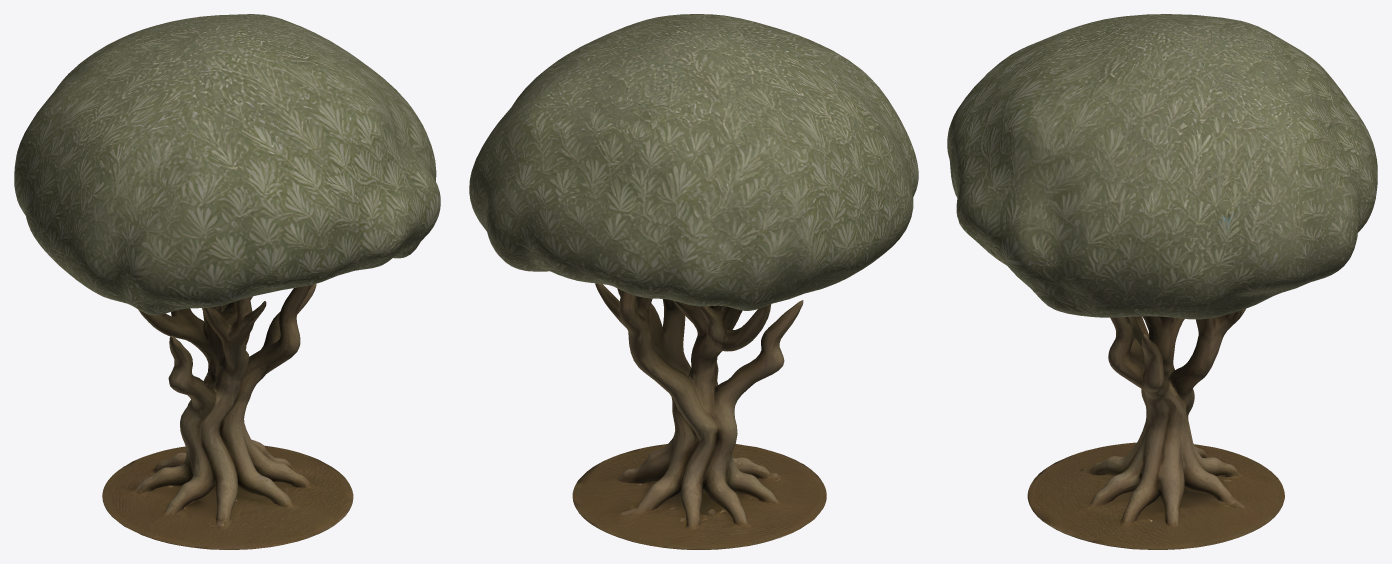
The model's file is OliveTree.glb.
The picture shows the model from 3 angles, left to right: view 1: azimuth 30°, elevation 25°; view 2: azimuth 150°, elevation 25°; view 3: azimuth 270°, elevation 25°; orthographic projection.
Visible parts, largest first — view 1: node_0; view 2: node_0; view 3: node_0.
Part boxes in pixels (bbox=[...]): node_0: bbox=[14, 14, 440, 549]; node_0: bbox=[469, 14, 918, 549]; node_0: bbox=[947, 14, 1377, 549].
Bounding box in the file's own units: 0.8757 × 1.06 × 0.8905.
Materials: 1 (1 with a texture image).
